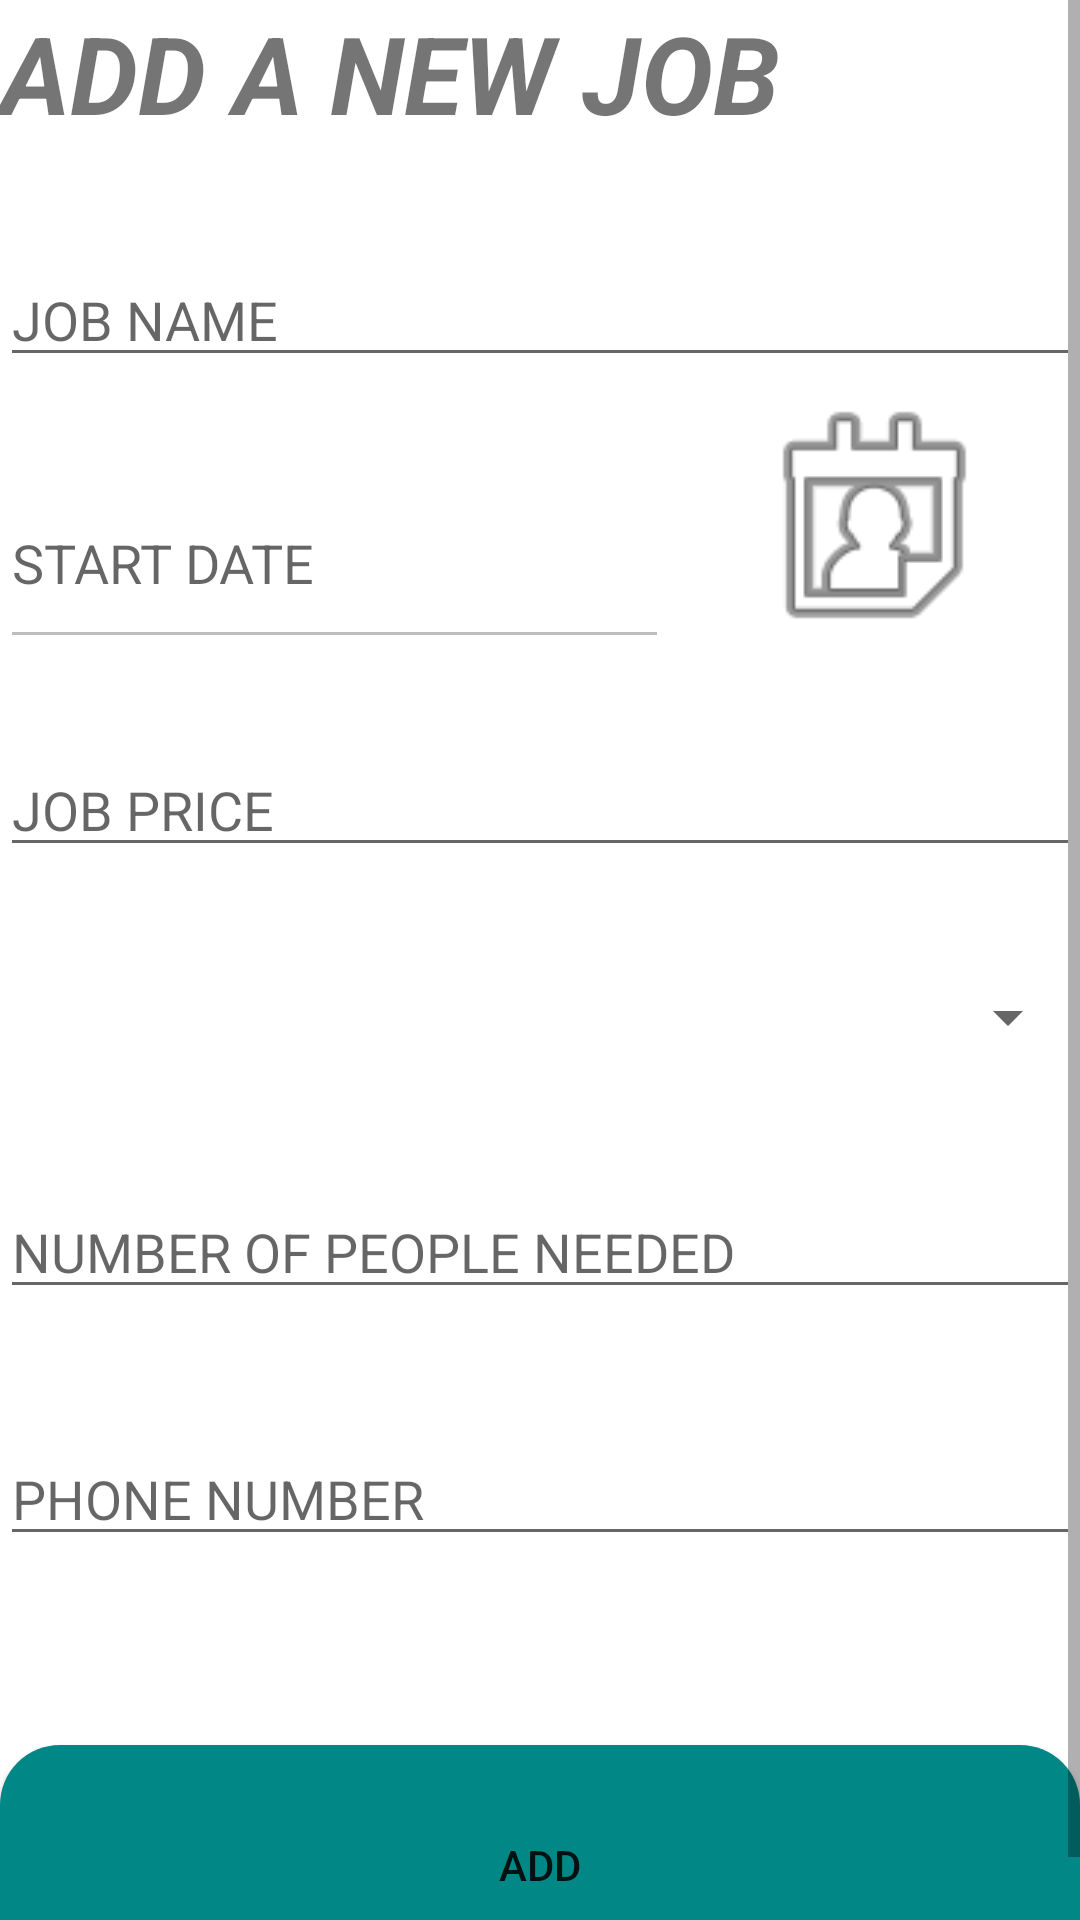

Where icons sit on this 1080x1920 app screen, as box(x1, y1, x2, y2):
calendar: box(783, 412, 966, 619)
